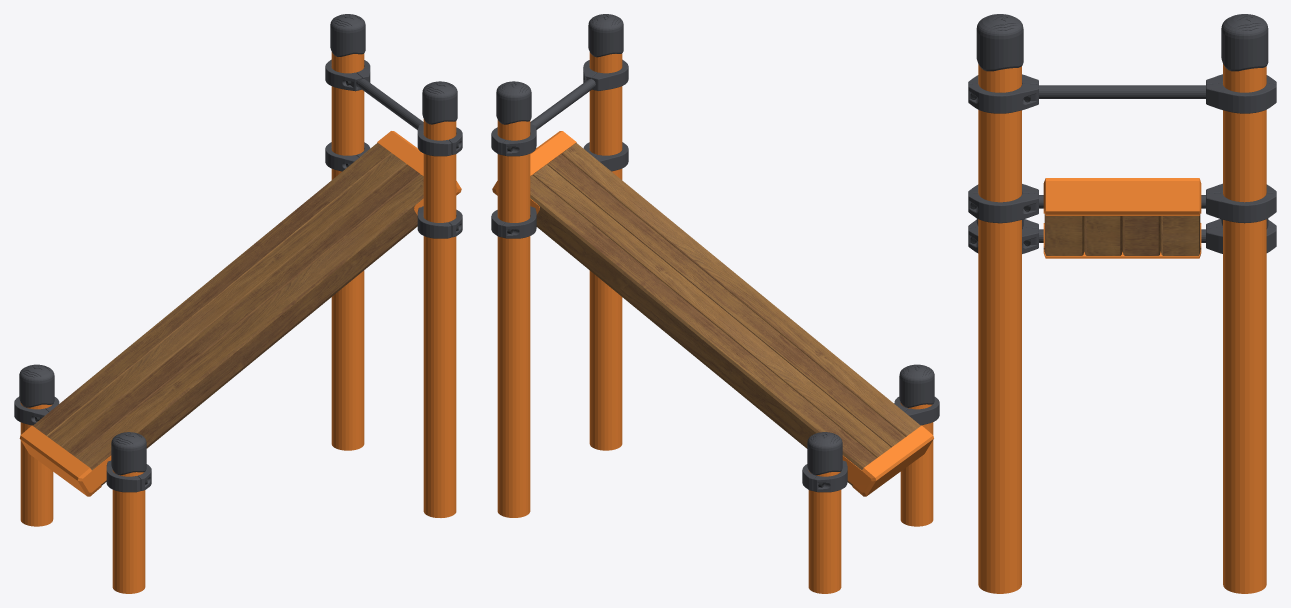
File: lider.glb
3 views of the same model, side by side, from view 1: azimuth 30°, elevation 25°; view 2: azimuth 150°, elevation 25°; view 3: azimuth 270°, elevation 25° (orthographic). The views are drawn at different scales.
Visible parts, largest first — view 1: Mesh146, Mesh01, Mesh02, Mesh07, Mesh145, Mesh03, Mesh141, Mesh143, Mesh142, Mesh140, Mesh144, Mesh06 (+4 smaller); view 2: Mesh146, Mesh02, Mesh01, Mesh03, Mesh145, Mesh07, Mesh143, Mesh140, Mesh141, Mesh142, Mesh144, Mesh06 (+4 smaller); view 3: Mesh01, Mesh02, Mesh146, Mesh144, Mesh143, Mesh142, Mesh06, Mesh45, Mesh63, Mesh98, Mesh80, Mesh09 (+2 smaller).
Boxes of the visible parts, box(x1,y1,x2,y2) form: Mesh146: box(33, 143, 423, 485); Mesh01: box(423, 119, 456, 517); Mesh02: box(331, 52, 364, 450); Mesh07: box(112, 470, 145, 593); Mesh145: box(19, 425, 111, 496); Mesh03: box(20, 402, 53, 526); Mesh141: box(111, 432, 146, 475); Mesh143: box(330, 14, 365, 56); Mesh142: box(422, 81, 457, 124); Mesh140: box(19, 364, 54, 407); Mesh144: box(377, 131, 461, 215); Mesh06: box(356, 79, 423, 129); Mesh146: box(530, 143, 920, 485); Mesh02: box(497, 120, 530, 517); Mesh01: box(589, 52, 622, 450); Mesh03: box(808, 470, 841, 593); Mesh145: box(842, 425, 933, 496); Mesh07: box(900, 402, 933, 526); Mesh143: box(496, 81, 531, 124); Mesh140: box(807, 432, 842, 475); Mesh141: box(899, 364, 934, 407); Mesh142: box(588, 14, 623, 57); Mesh144: box(492, 131, 576, 214); Mesh06: box(530, 79, 595, 129); Mesh01: box(978, 64, 1021, 593); Mesh02: box(1223, 64, 1266, 593); Mesh146: box(1044, 214, 1200, 255); Mesh144: box(1043, 178, 1201, 215); Mesh143: box(1221, 14, 1268, 71); Mesh142: box(976, 14, 1023, 71); Mesh06: box(1039, 85, 1205, 98); Mesh45: box(1206, 83, 1276, 113); Mesh63: box(1206, 193, 1276, 223); Mesh98: box(968, 83, 1038, 113); Mesh80: box(968, 193, 1038, 223); Mesh09: box(1206, 227, 1276, 253).
Bounding box in the file's own units: 1.46 × 1.55 × 0.7654.
4 materials, 1 textured.
